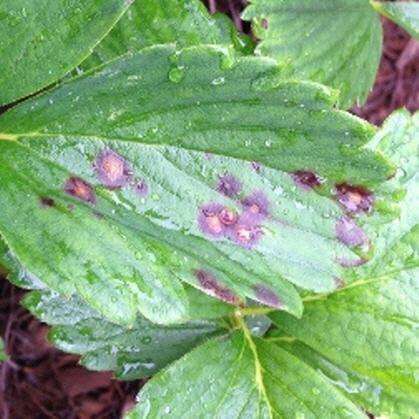Leaf Spot: (0, 42, 407, 331)
